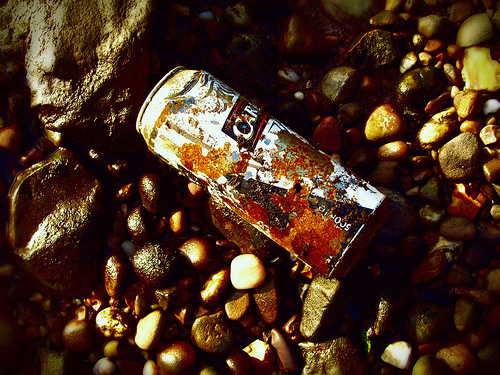litter: (136, 63, 391, 280)
